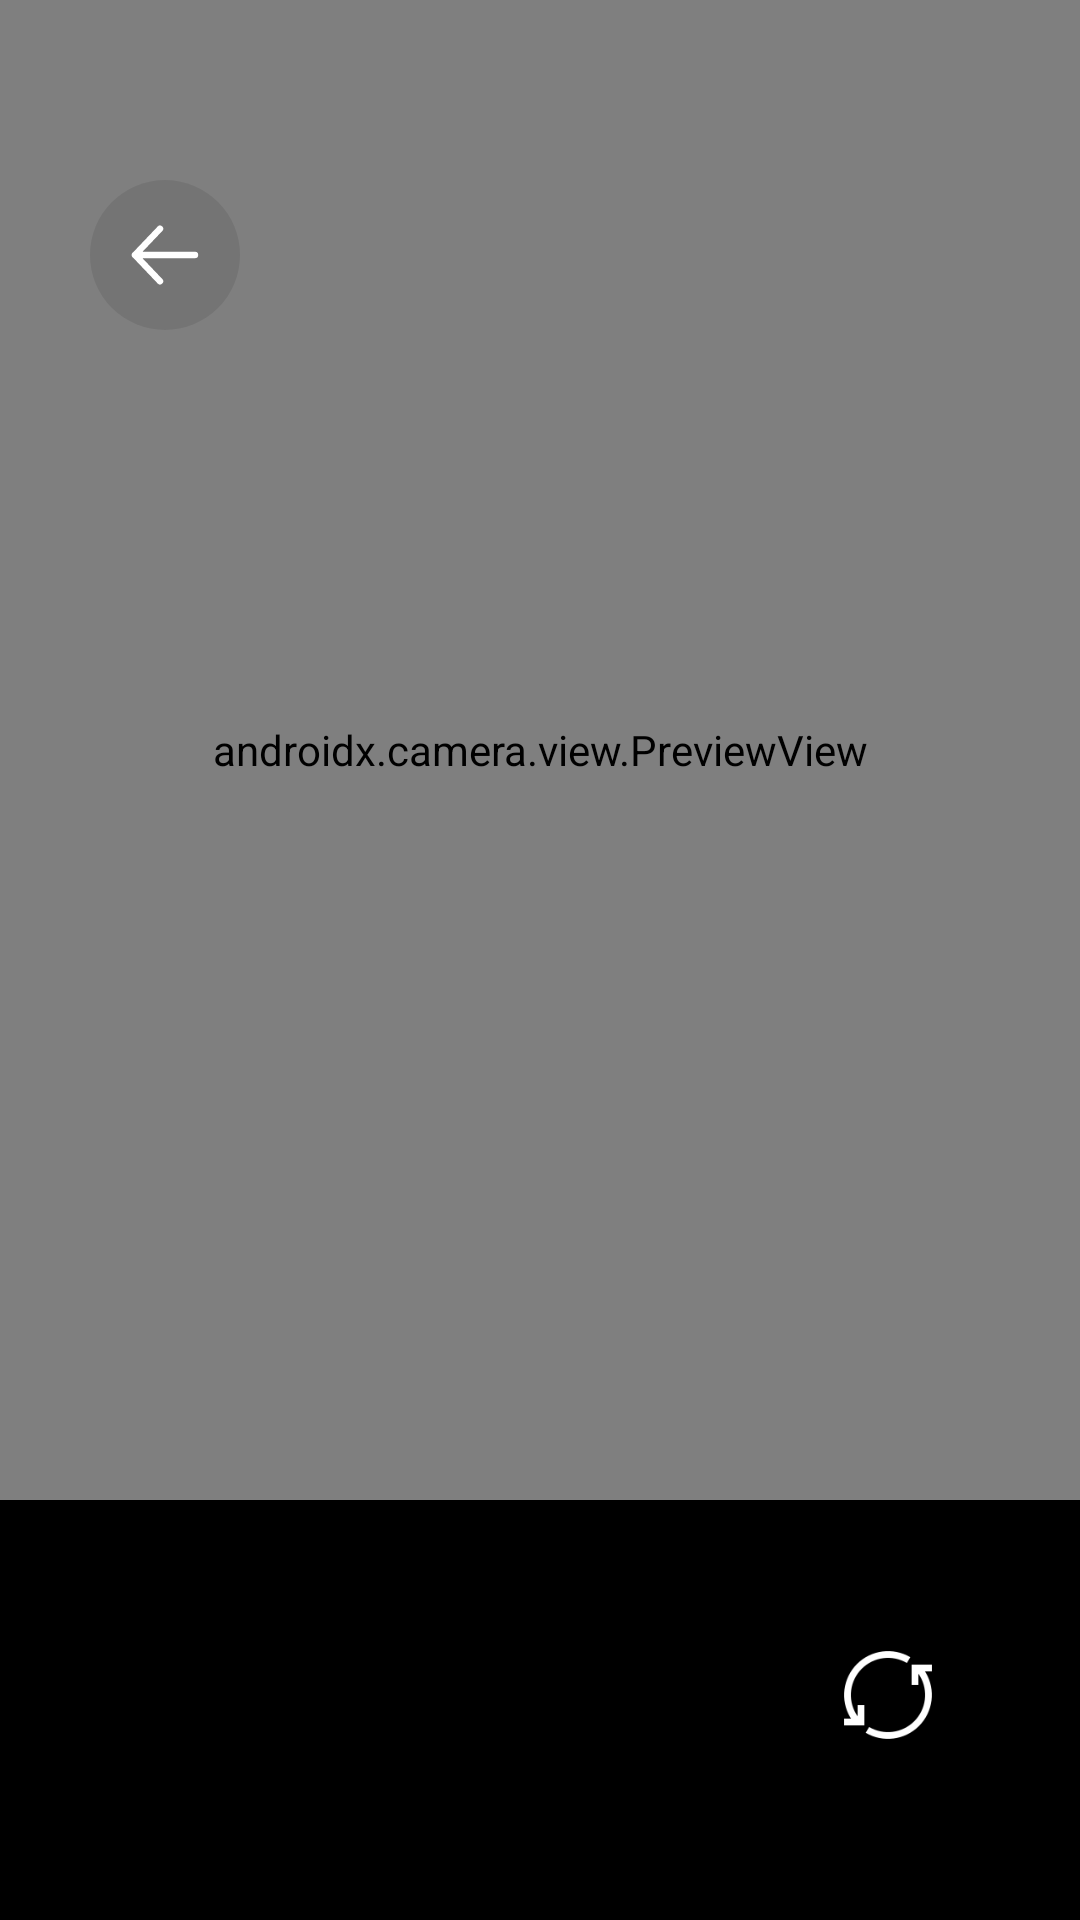

Named icons in this screenshot (1080*1920) and their centers, [x,y]:
back: [165,255]
camera switch: [888,1695]
